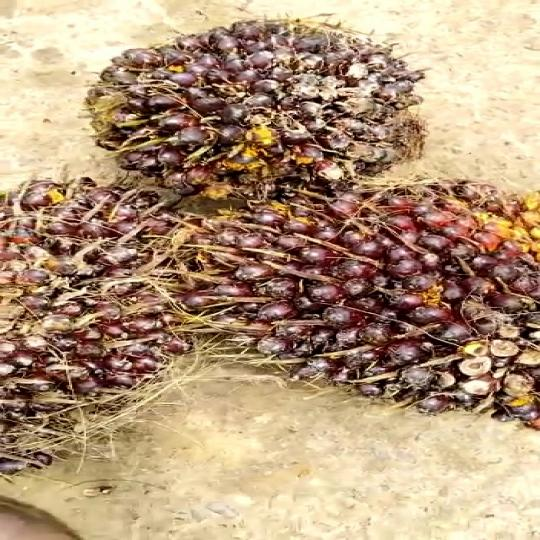kurang masak: (178, 183, 540, 425), (81, 17, 428, 186), (0, 182, 167, 477)
